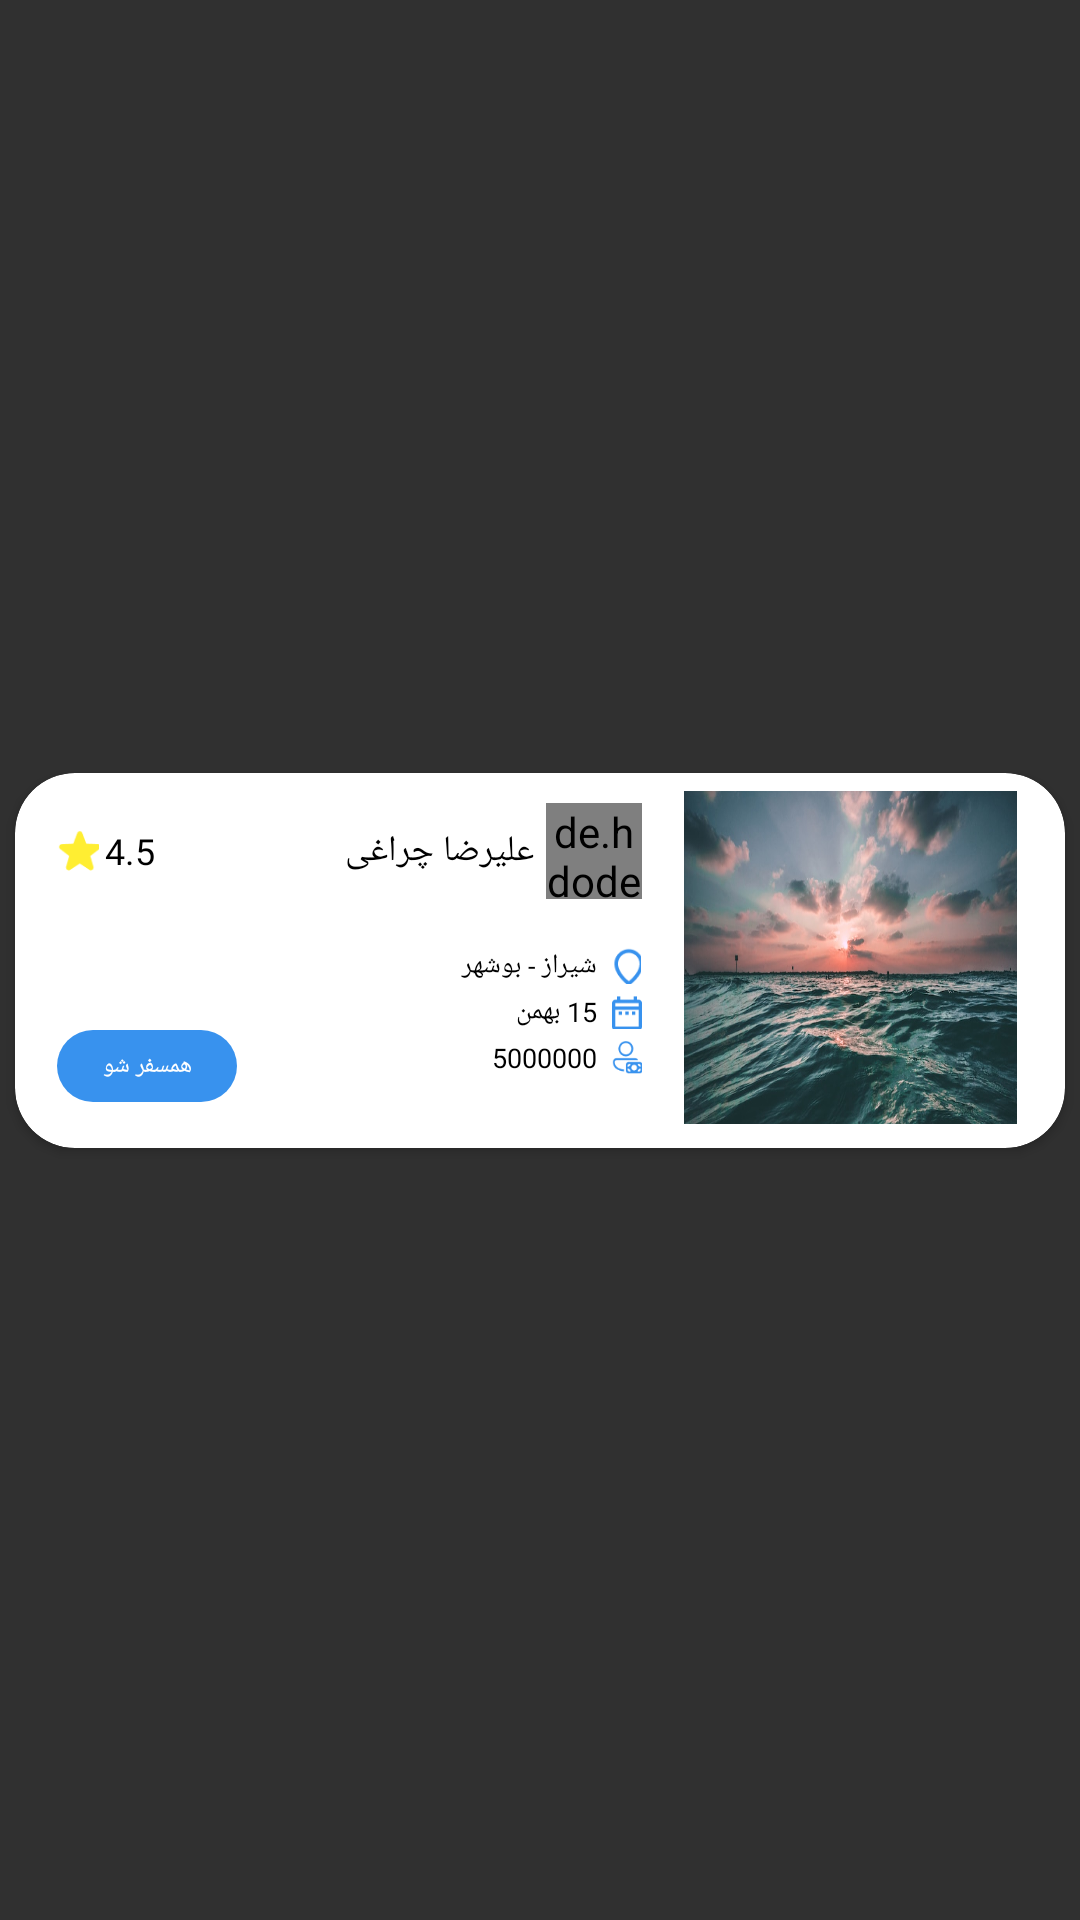

Named icons in this screenshot (1080px x 1920px) and their centers, point (x, y):
date: point (627, 1012)
location: point (627, 966)
price: point (627, 1057)
star: point (79, 851)
